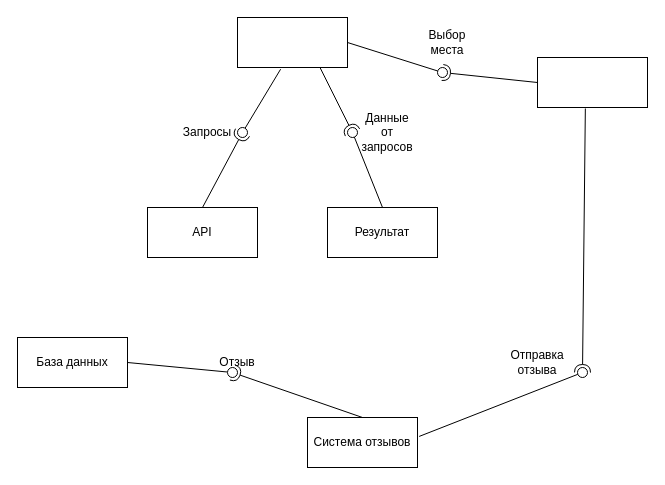
Image size: 665x485. Some labels were removed from this diagram. Each missing label, with the centre of its shape:
"Пользователь" belongs at (x=592, y=82).
"Сайт" belongs at (x=292, y=42).
